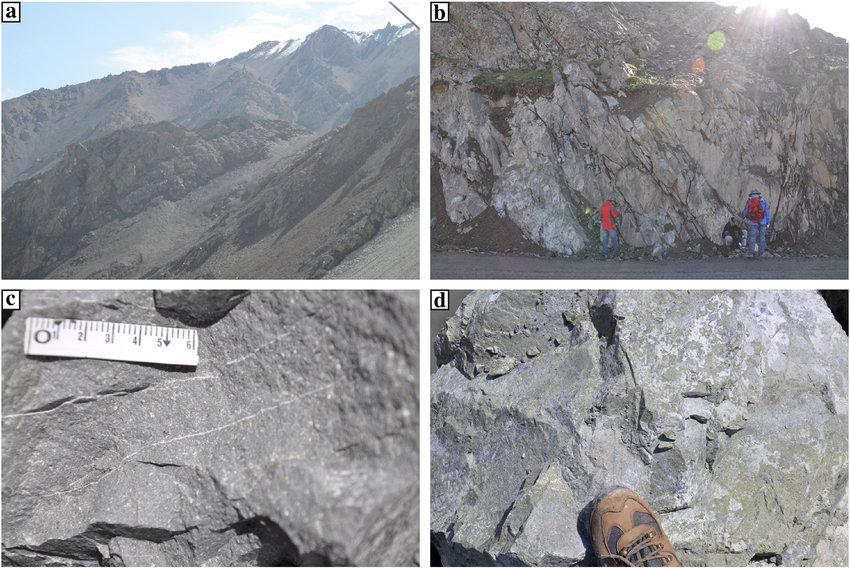volcanic_rock: (12, 372, 415, 568), (472, 298, 833, 487), (465, 11, 823, 187)
